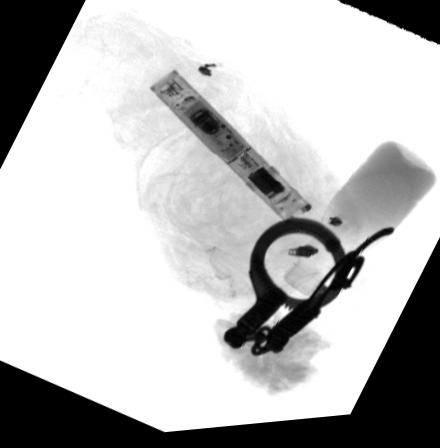Baton: (147, 72, 314, 231)
HandCuffs: (222, 222, 394, 365)
